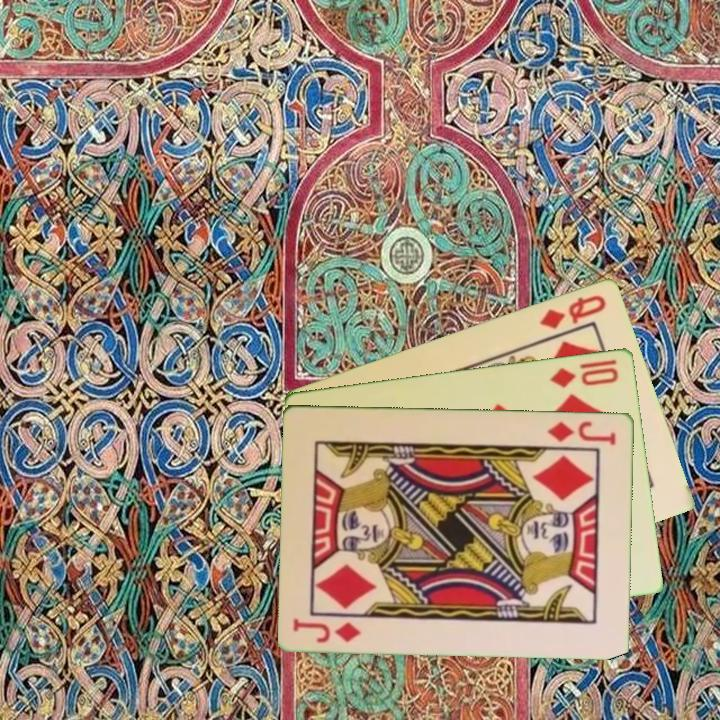10d: (547, 363, 622, 390)
Jd: (290, 614, 365, 645), (545, 417, 620, 447)
Qd: (536, 290, 610, 331)
